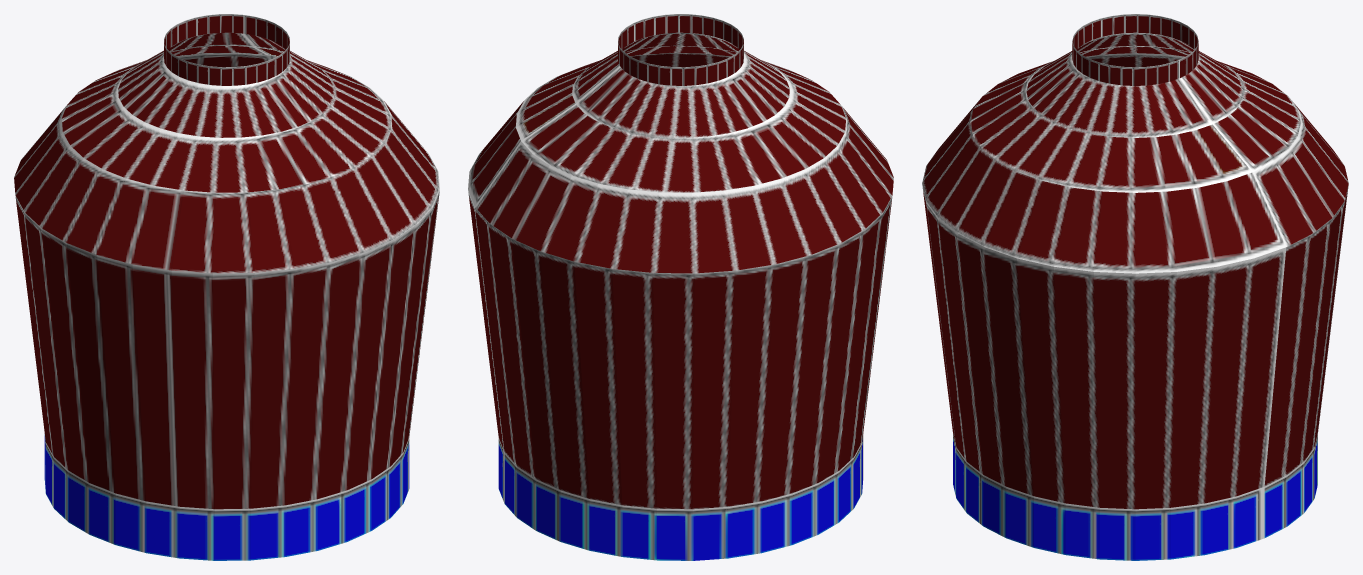
The model's file is pitcher_zero.obj.
The picture shows the model from 3 angles, left to right: view 1: azimuth 30°, elevation 25°; view 2: azimuth 150°, elevation 25°; view 3: azimuth 270°, elevation 25°; orthographic projection.
Parts seen in each view (by area): view 1: Circle; view 2: Circle; view 3: Circle.
Boxes of the visible parts, left/top/right/bottom form: Circle: left=14, top=14, right=439, bottom=560; Circle: left=468, top=14, right=893, bottom=560; Circle: left=922, top=14, right=1348, bottom=560.
Size of the model in its own units: 0.5944 by 0.6812 by 0.5944.
Materials: 1 (1 with a texture image).
